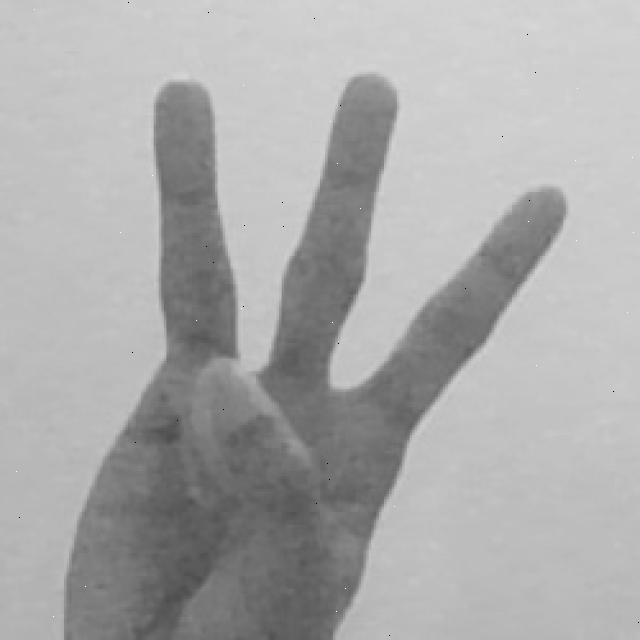W: (59, 65, 577, 640)
